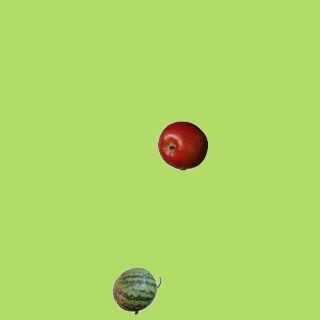Apple Braeburn: (157, 120, 207, 170)
Watermelon: (111, 265, 161, 315)
